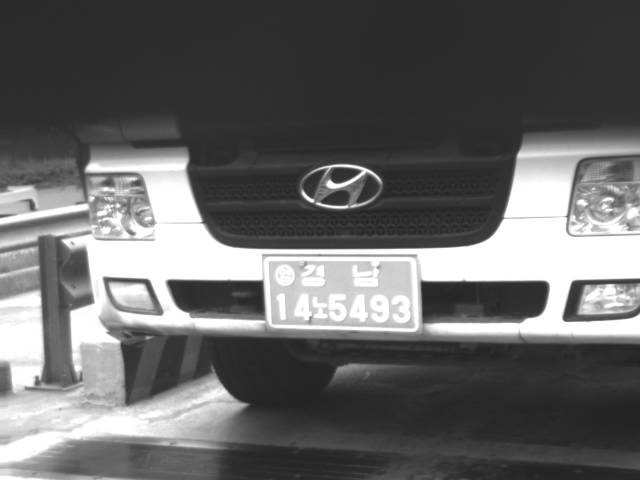car: (69, 47, 638, 409)
plate: (261, 257, 422, 333)
